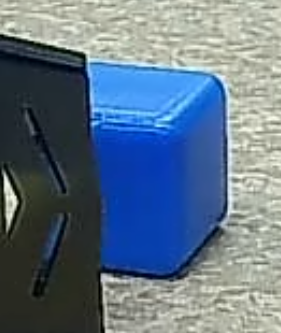blue_cube: (83, 56, 245, 282)
